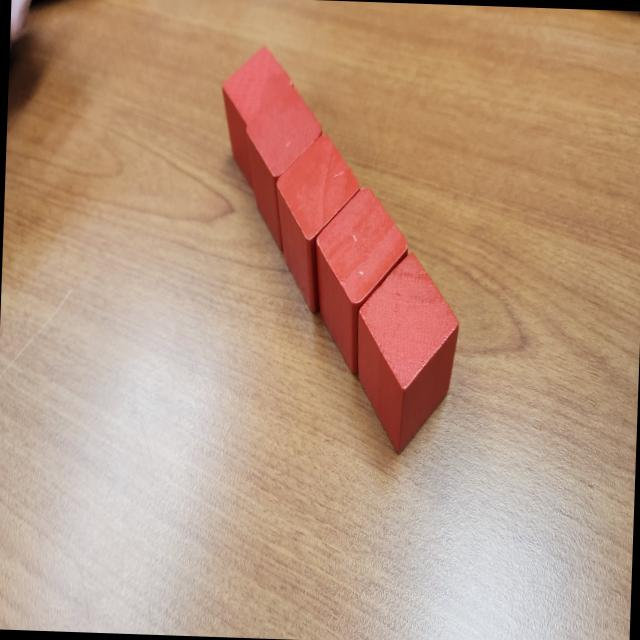red: (352, 249, 461, 455), (310, 182, 410, 378), (272, 132, 364, 314), (240, 81, 323, 255), (218, 44, 296, 193)
